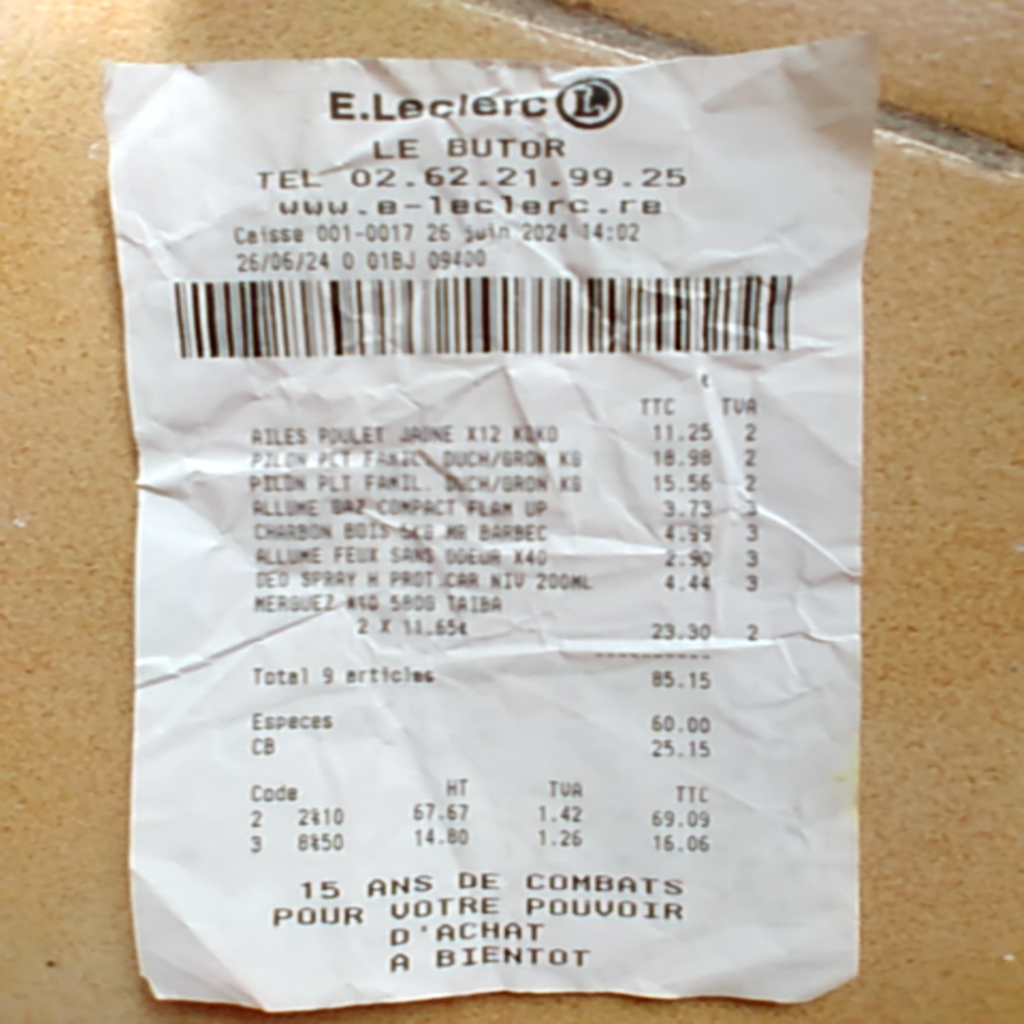recipt: (105, 38, 877, 1013)
